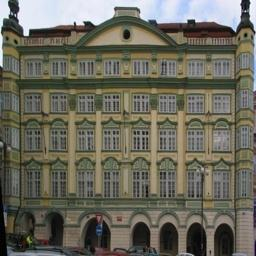building: (0, 0, 256, 246)
